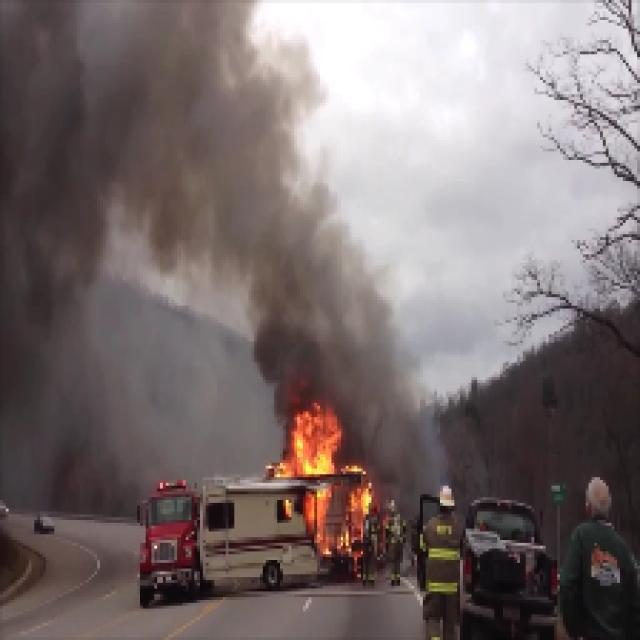Fire: (275, 407, 342, 470)
Smoke: (3, 53, 274, 208), (256, 244, 393, 394)
